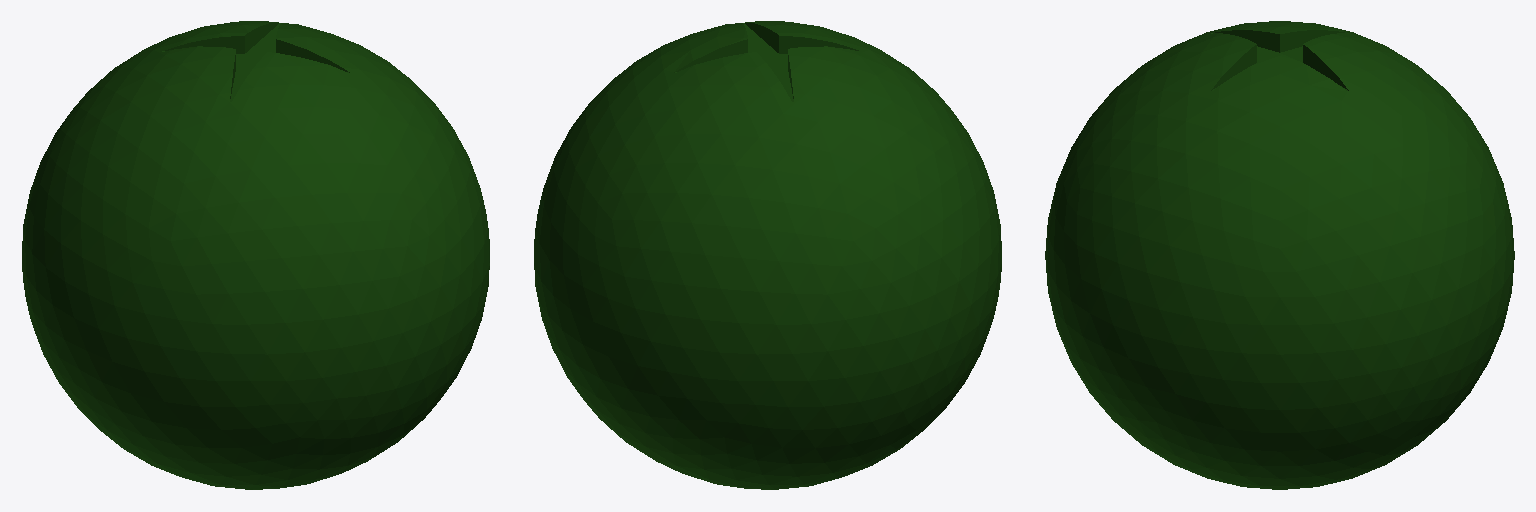
Rendered from ball.obj.
The picture shows the model from 3 angles: view 1: azimuth 30°, elevation 25°; view 2: azimuth 150°, elevation 25°; view 3: azimuth 270°, elevation 25°; orthographic projection.
Parts seen in each view (by area): view 1: Ball_Icosphere; view 2: Ball_Icosphere; view 3: Ball_Icosphere.
Boxes of the visible parts, <box> form: Ball_Icosphere: <box>22,21,489,489</box>; Ball_Icosphere: <box>534,21,1001,489</box>; Ball_Icosphere: <box>1045,21,1514,489</box>.
Size of the model in its own units: 300 by 299 by 300.